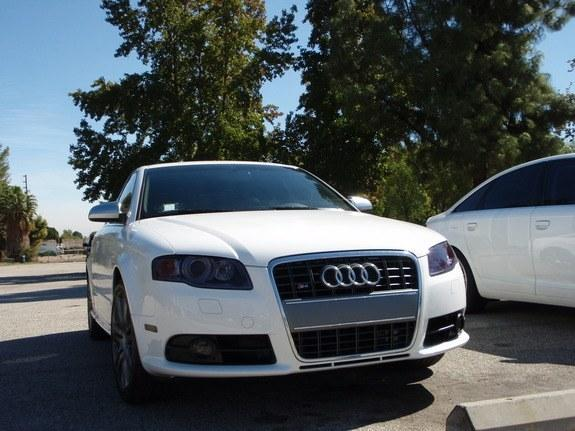Audi: (314, 256, 388, 296)
